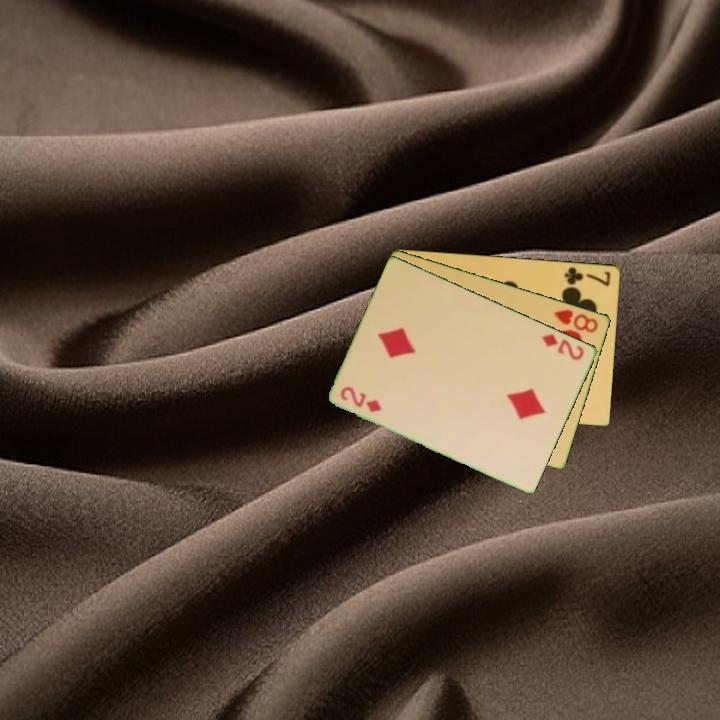2d: (538, 330, 587, 363), (337, 383, 385, 415)
7c: (561, 263, 613, 288)
8h: (551, 306, 601, 335)
